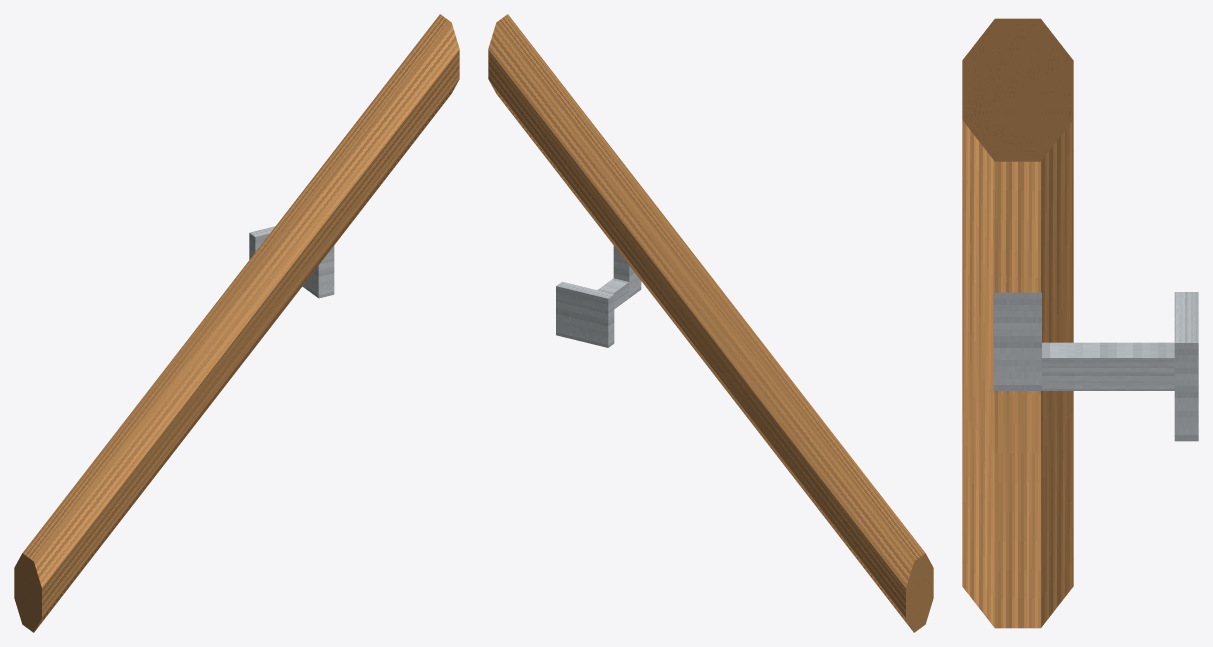
The model's file is mid_pos.obj.
3 renders of one model, left to right at view 1: azimuth 30°, elevation 25°; view 2: azimuth 150°, elevation 25°; view 3: azimuth 270°, elevation 25°, orthographic. The views are drawn at different scales.
Visible parts, largest first — view 1: handrail_wall_oak_round_mid_pos; view 2: handrail_wall_oak_round_mid_pos; view 3: handrail_wall_oak_round_mid_pos.
Boxes of the visible parts, box(x1,y1,x2,y2) form: handrail_wall_oak_round_mid_pos: box(14, 14, 459, 632); handrail_wall_oak_round_mid_pos: box(488, 14, 933, 632); handrail_wall_oak_round_mid_pos: box(962, 18, 1198, 628).
Size of the model in its own units: 1 by 1.16 by 0.2452.
